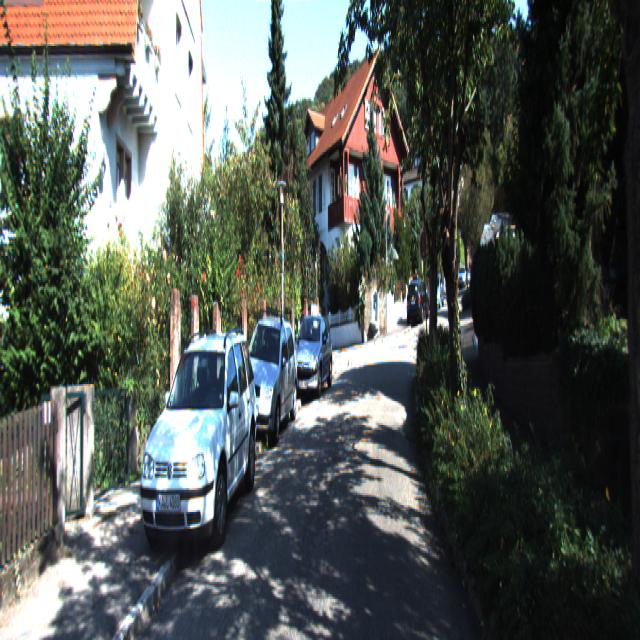Car: (136, 327, 259, 578), (236, 312, 298, 452), (291, 309, 333, 401), (407, 280, 430, 328)
